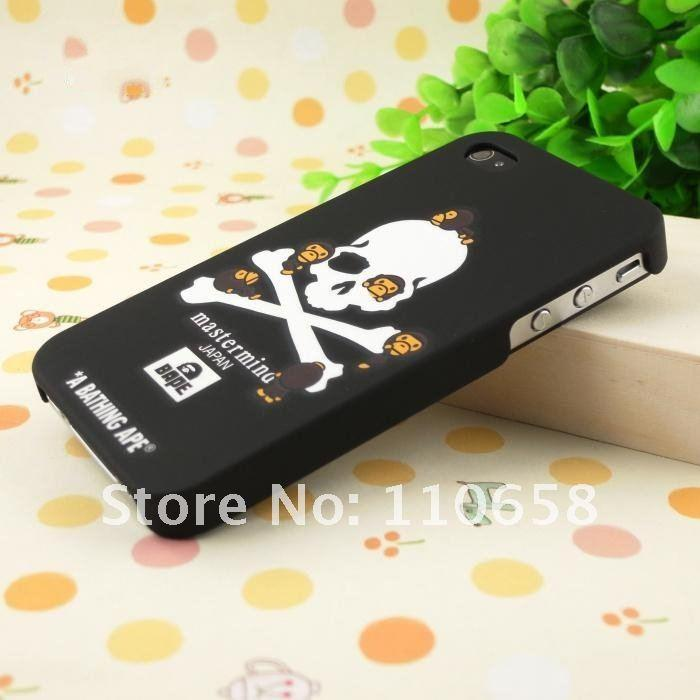mastermind_JAPAN: (195, 205, 469, 402)
